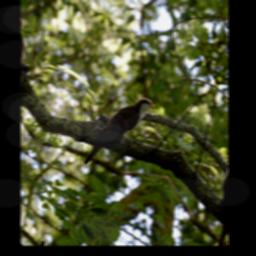Cuckoo: (79, 82, 160, 188)
